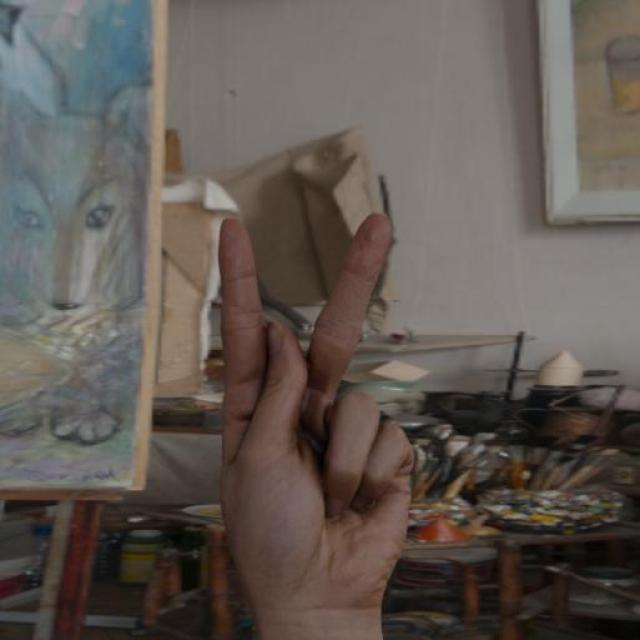K: (202, 205, 419, 640)
